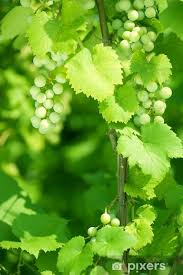grapes: (109, 3, 169, 132), (33, 40, 67, 136)
